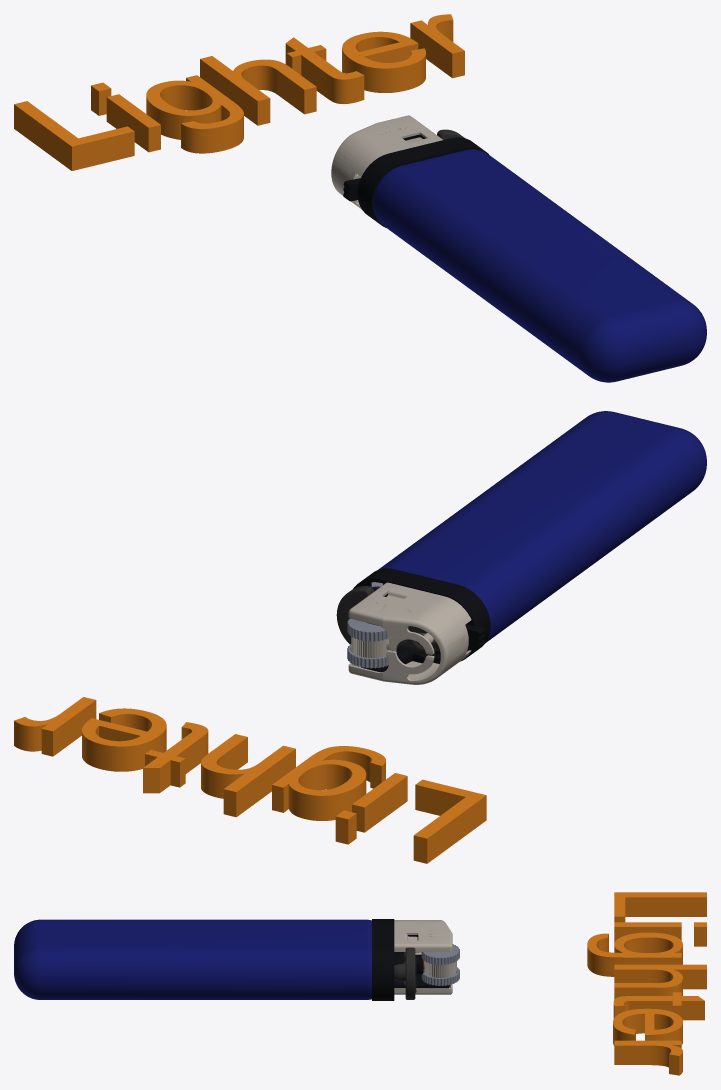
Rendered from Lighter Rahul.FBX.
3 renders of one model, top to bottom at view 1: azimuth 30°, elevation 25°; view 2: azimuth 150°, elevation 25°; view 3: azimuth 270°, elevation 25°, orthographic. The views are drawn at different scales.
Parts seen in each view (by area): view 1: ChamferBox022, Text047, VIFS352, VIFS353; view 2: ChamferBox022, Text047, VIFS352, VIFS353, VIFS347; view 3: ChamferBox022, Text047, VIFS353, VIFS352, VIFS347, VIFS350, VIFS349, VIFS348.
Part boxes in pixels (x1,y1,x2,y2): ChamferBox022: (373, 149, 706, 382); Text047: (14, 14, 464, 170); VIFS352: (331, 115, 442, 209); VIFS353: (357, 134, 488, 227); ChamferBox022: (372, 411, 706, 642); Text047: (14, 697, 486, 863); VIFS352: (348, 582, 471, 684); VIFS353: (353, 568, 490, 672); VIFS347: (336, 586, 439, 651); ChamferBox022: (14, 919, 371, 999); Text047: (587, 892, 706, 1075); VIFS353: (372, 919, 449, 1000); VIFS352: (394, 920, 452, 994); VIFS347: (394, 947, 416, 999); VIFS350: (421, 944, 459, 965); VIFS349: (424, 961, 456, 977); VIFS348: (421, 967, 459, 985).
Bounding box in the file's own units: 2.11 × 0.3607 × 3.78.
